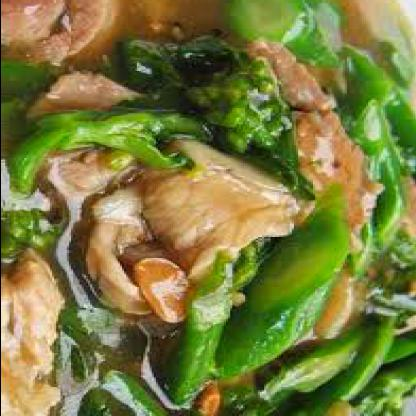Laadna: (1, 1, 412, 415)
